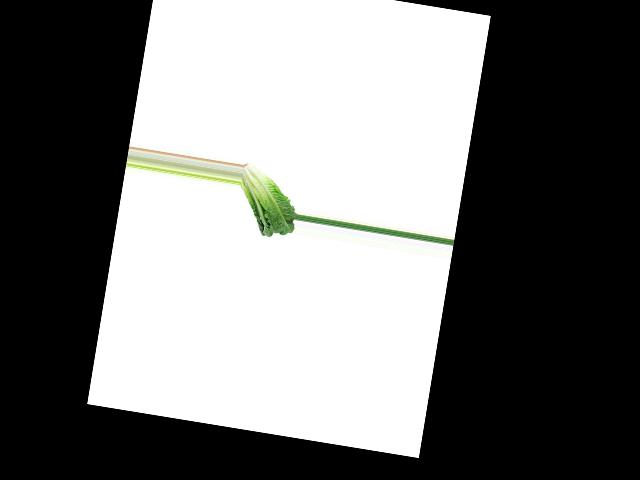lettuce: (232, 162, 303, 241)
